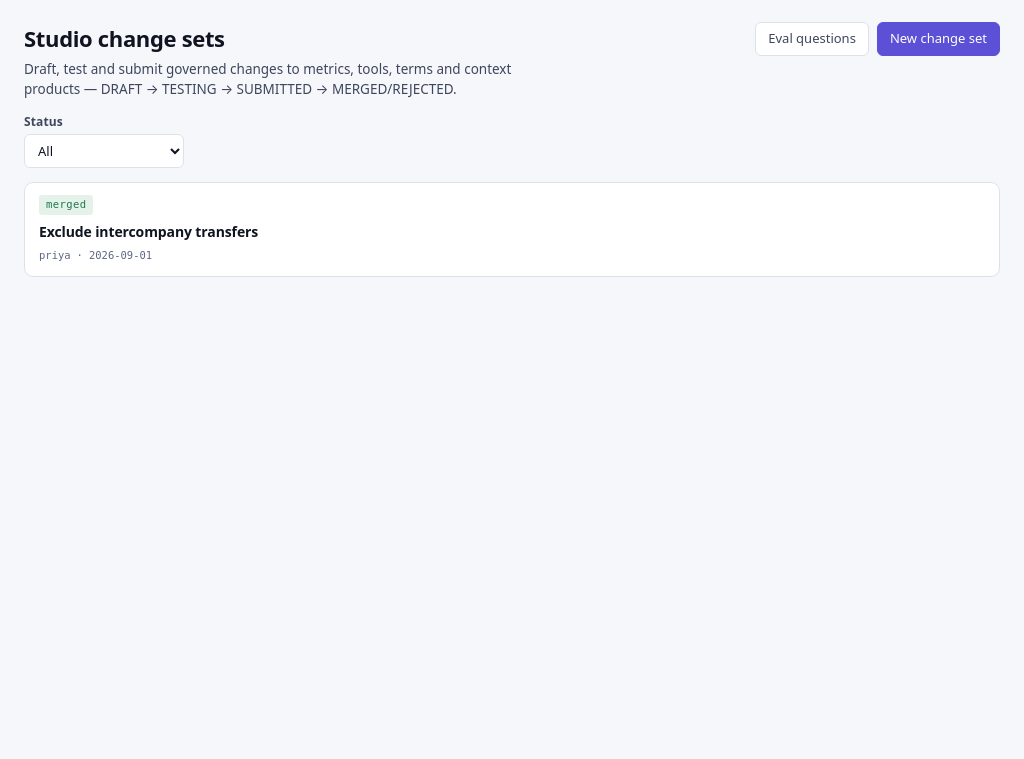
Test: Studio controls by role › makes a MERGED change set read-only even for a write role
Click the button "merged Exclude intercompany transfers priya · 2026-09-01" at (66,205), box left=25, top=183, right=999, bottom=276
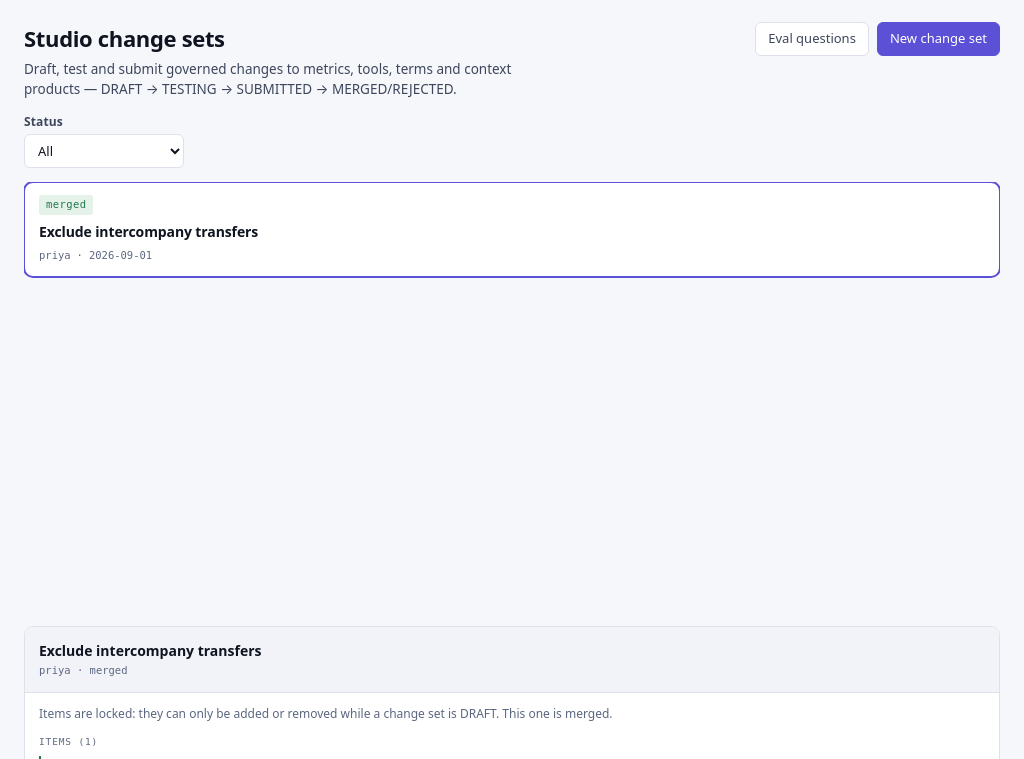
Expected: the text "Items (1)" is shown, left=39, top=736, right=98, bottom=747
Expected: the text "Items are locked" is shown, left=39, top=705, right=460, bottom=722
